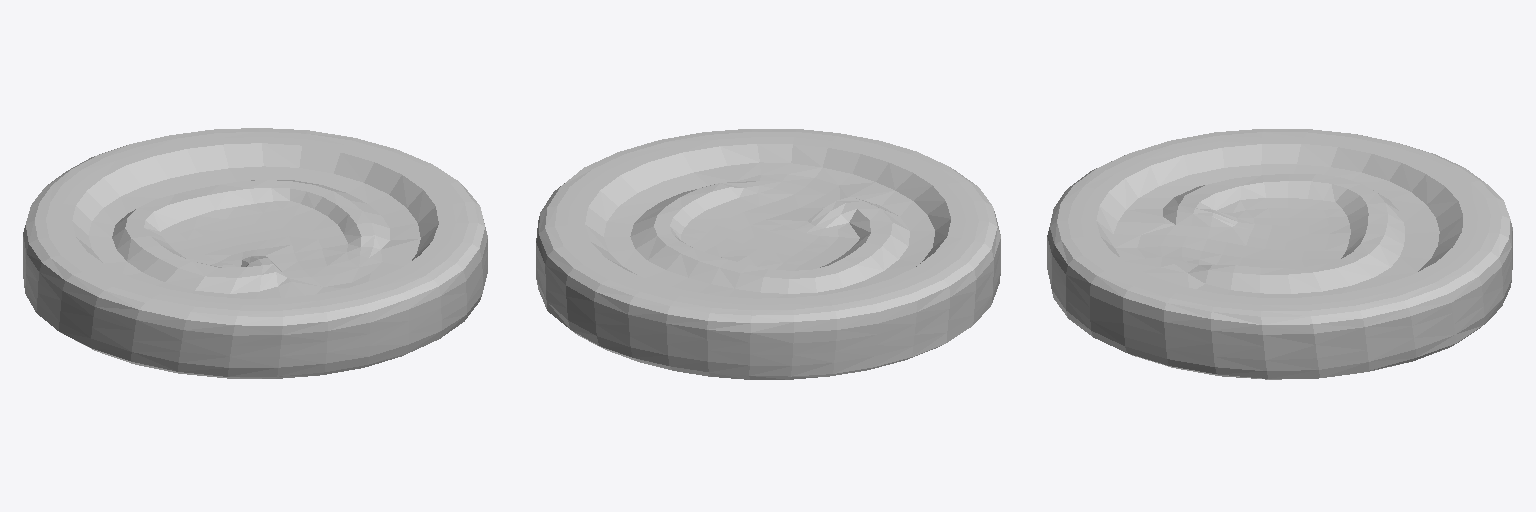
3 views of the same model, side by side, from view 1: azimuth 30°, elevation 25°; view 2: azimuth 150°, elevation 25°; view 3: azimuth 270°, elevation 25° (orthographic).
Visible parts, largest first — view 1: ZBrush_defualt_group, Group5, Group20; view 2: ZBrush_defualt_group, Group5, Group20; view 3: ZBrush_defualt_group, Group5, Group20.
Part boxes in pixels (bbox=[...]): ZBrush_defualt_group: bbox=[23, 128, 487, 378]; Group5: bbox=[72, 143, 438, 298]; Group20: bbox=[112, 180, 389, 293]; ZBrush_defualt_group: bbox=[536, 129, 1000, 379]; Group5: bbox=[585, 144, 950, 298]; Group20: bbox=[630, 182, 909, 293]; ZBrush_defualt_group: bbox=[1047, 129, 1512, 379]; Group5: bbox=[1096, 144, 1462, 297]; Group20: bbox=[1163, 174, 1404, 293].
Size of the model in its own units: 1.96 by 0.3262 by 1.96.